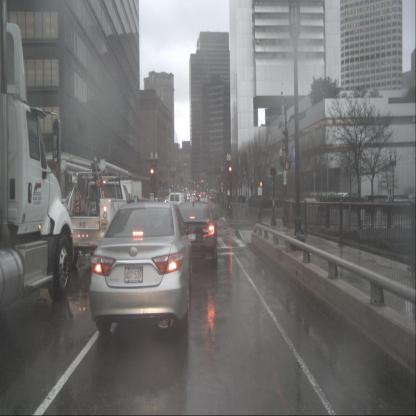vehicle-car: (89, 201, 193, 334), (171, 199, 218, 261), (168, 192, 188, 215)
vehicle-truck: (0, 21, 75, 312), (54, 159, 137, 268)
